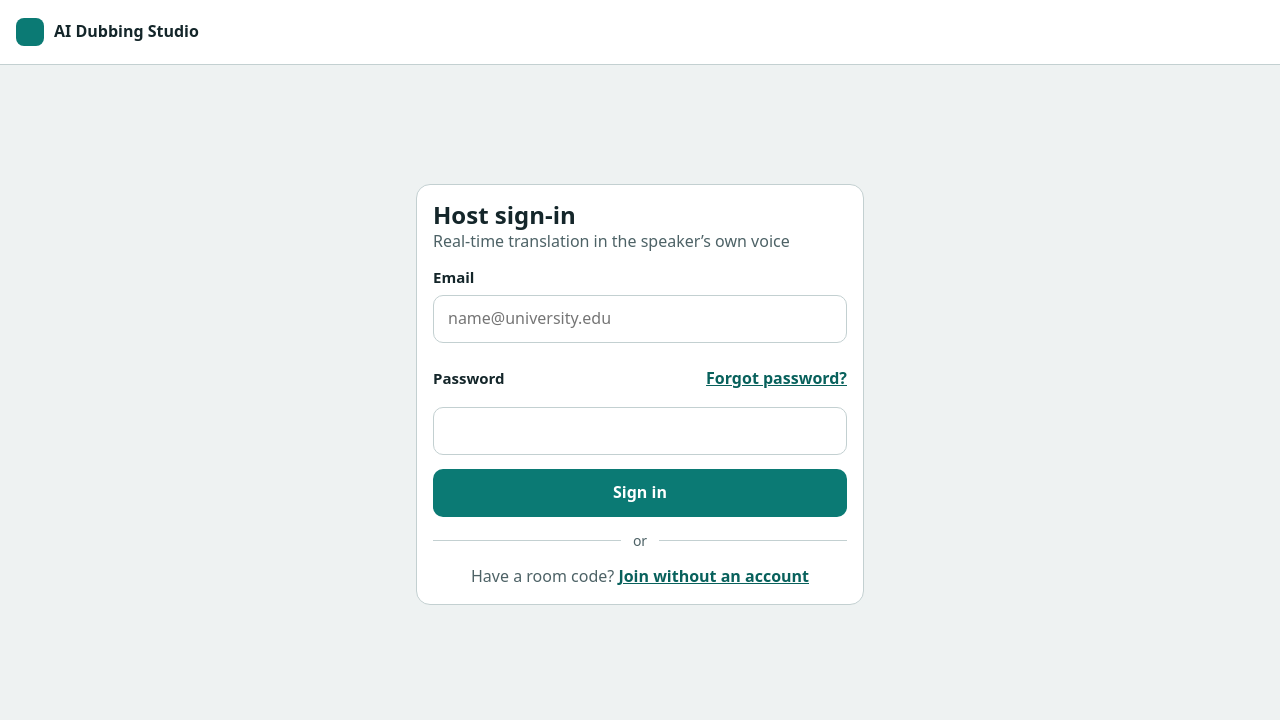
Test: SignInPage › explains rate limiting and an unreachable backend
The width and height of the screenshot is (1280, 720).
Type "a@b.c" into the field labelled "Email" at (640, 319), box [433,295,847,343]
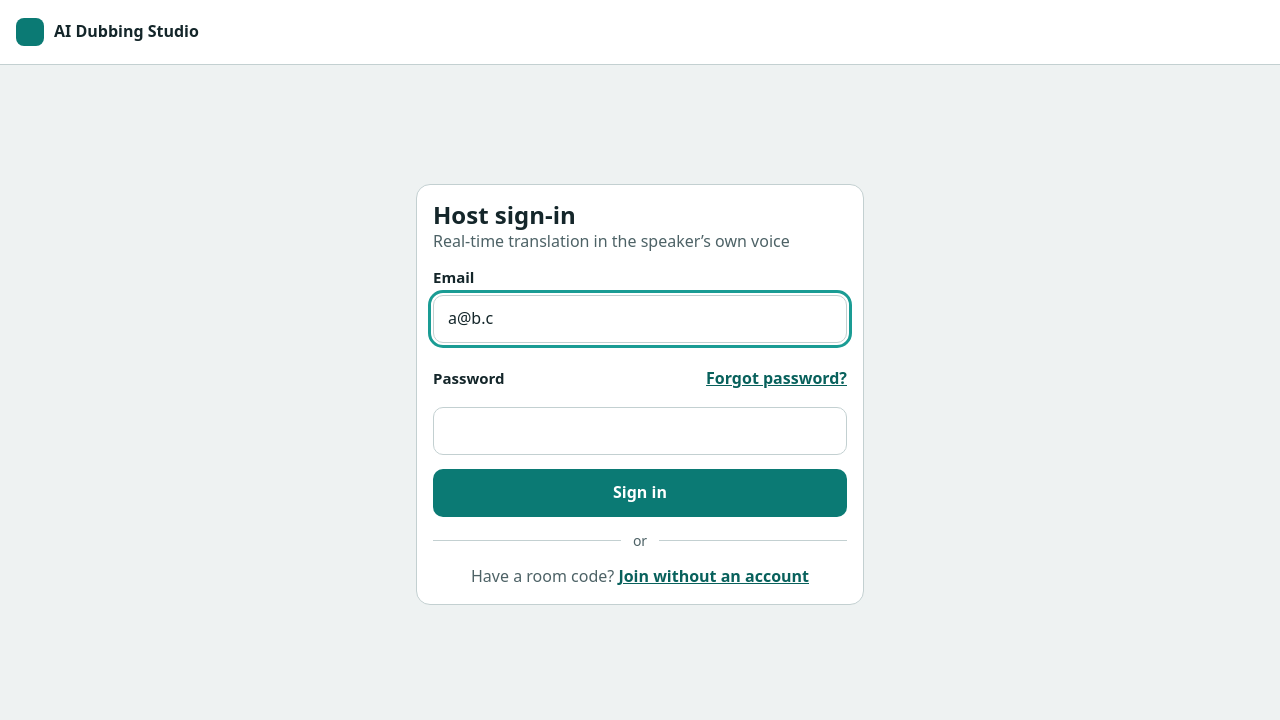
Type "x" into the password field labelled "Password" at (640, 431), box [433,407,847,455]
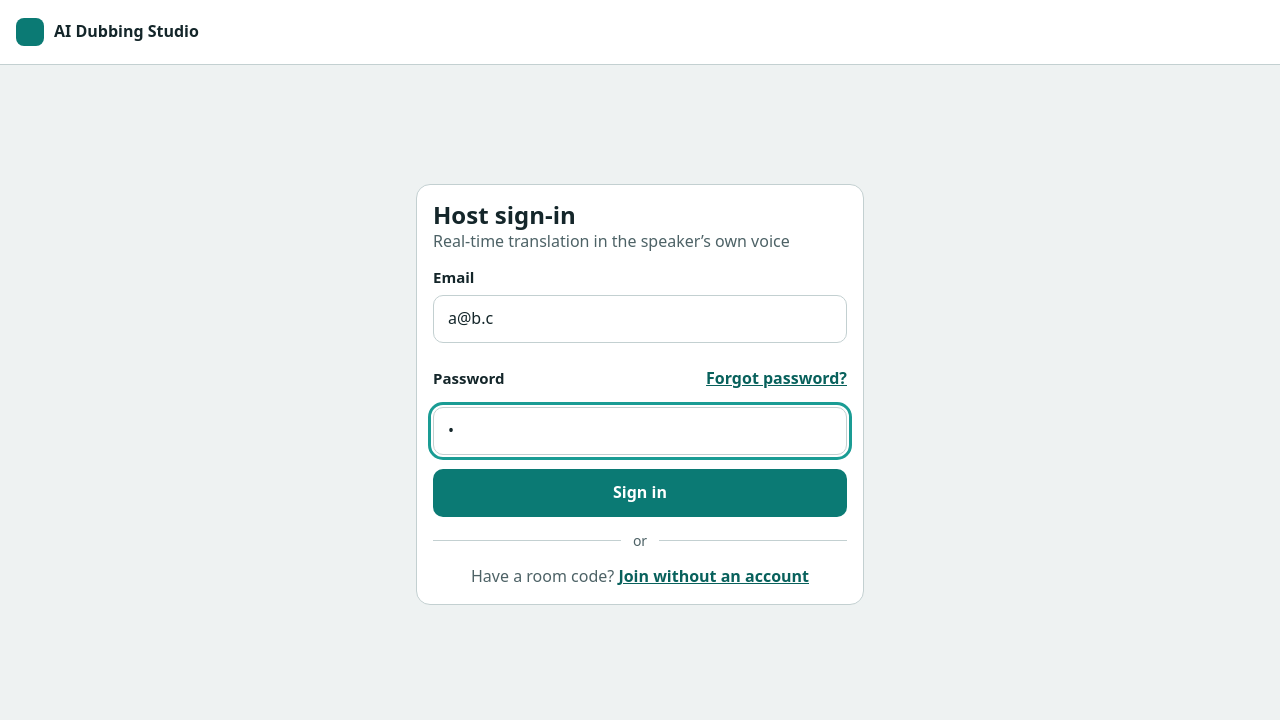
Click the button "Sign in" at (640, 493), box [433,469,847,517]
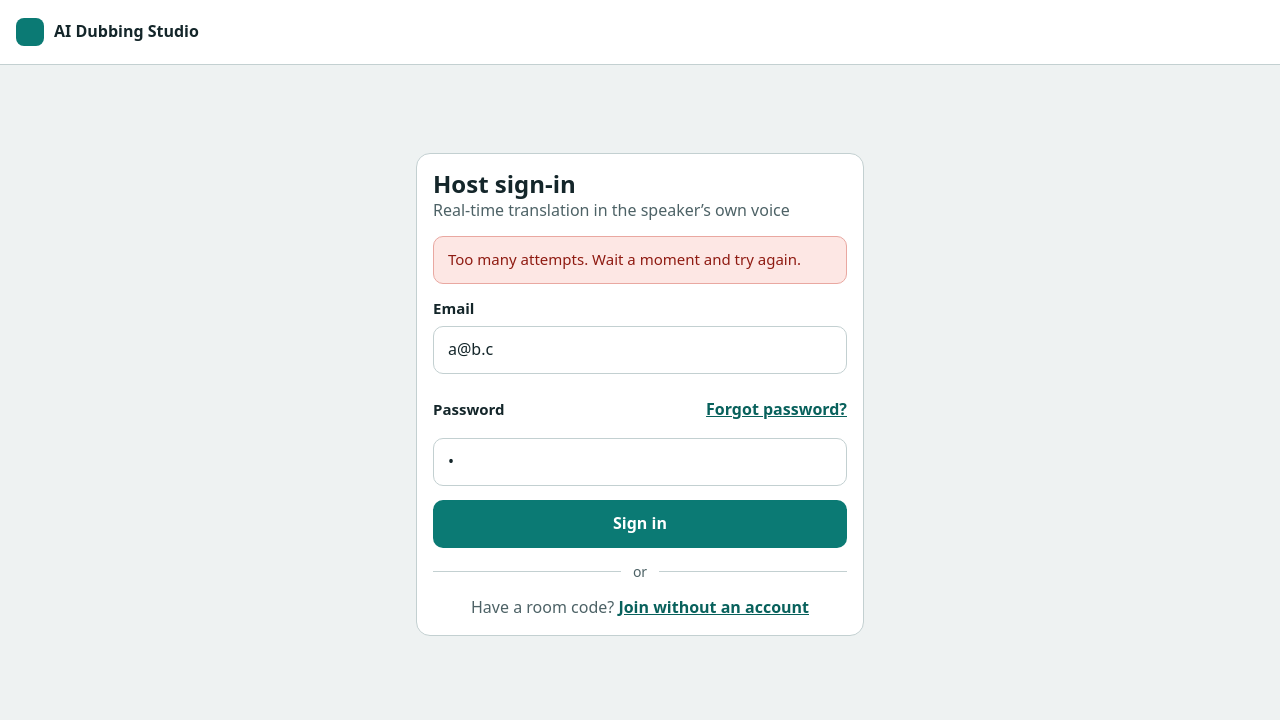
Now the message shows "Too many attempts", box [448,249,801,269]
Click the button "Sign in" at (640, 524), box [433,500,847,548]
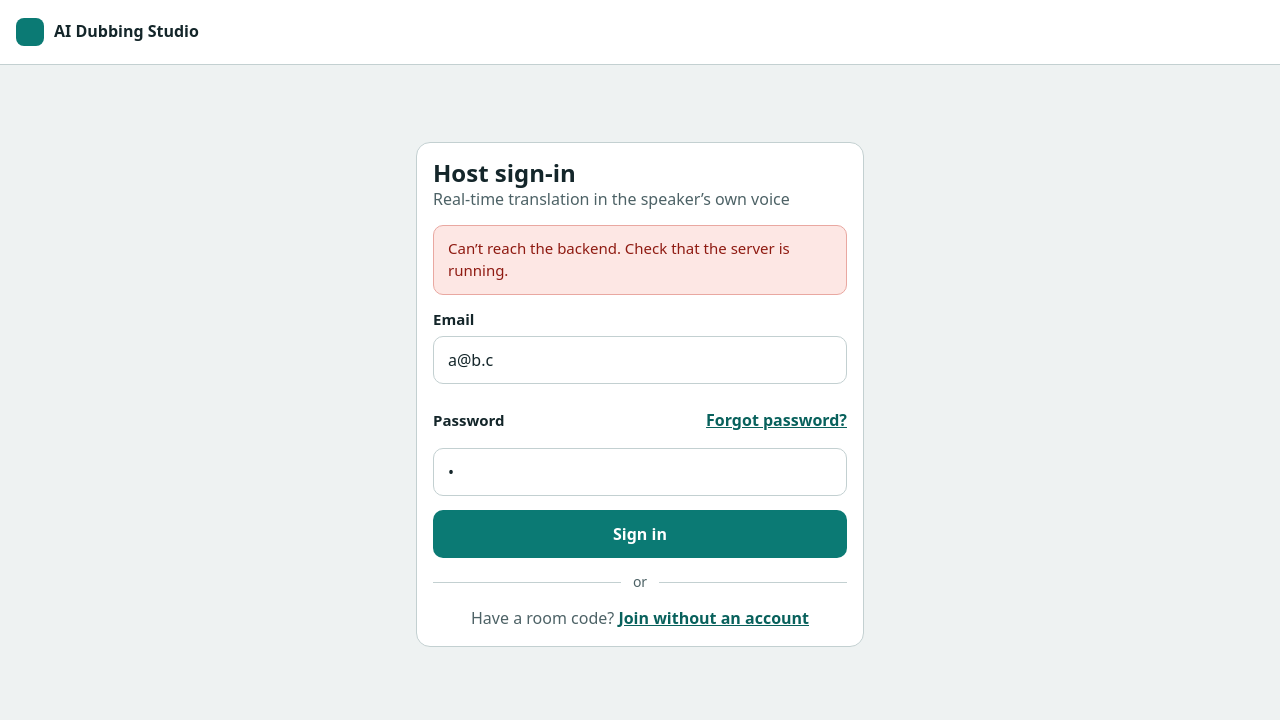
Now the message shows "Can’t reach the backend", box [448,238,790,280]
